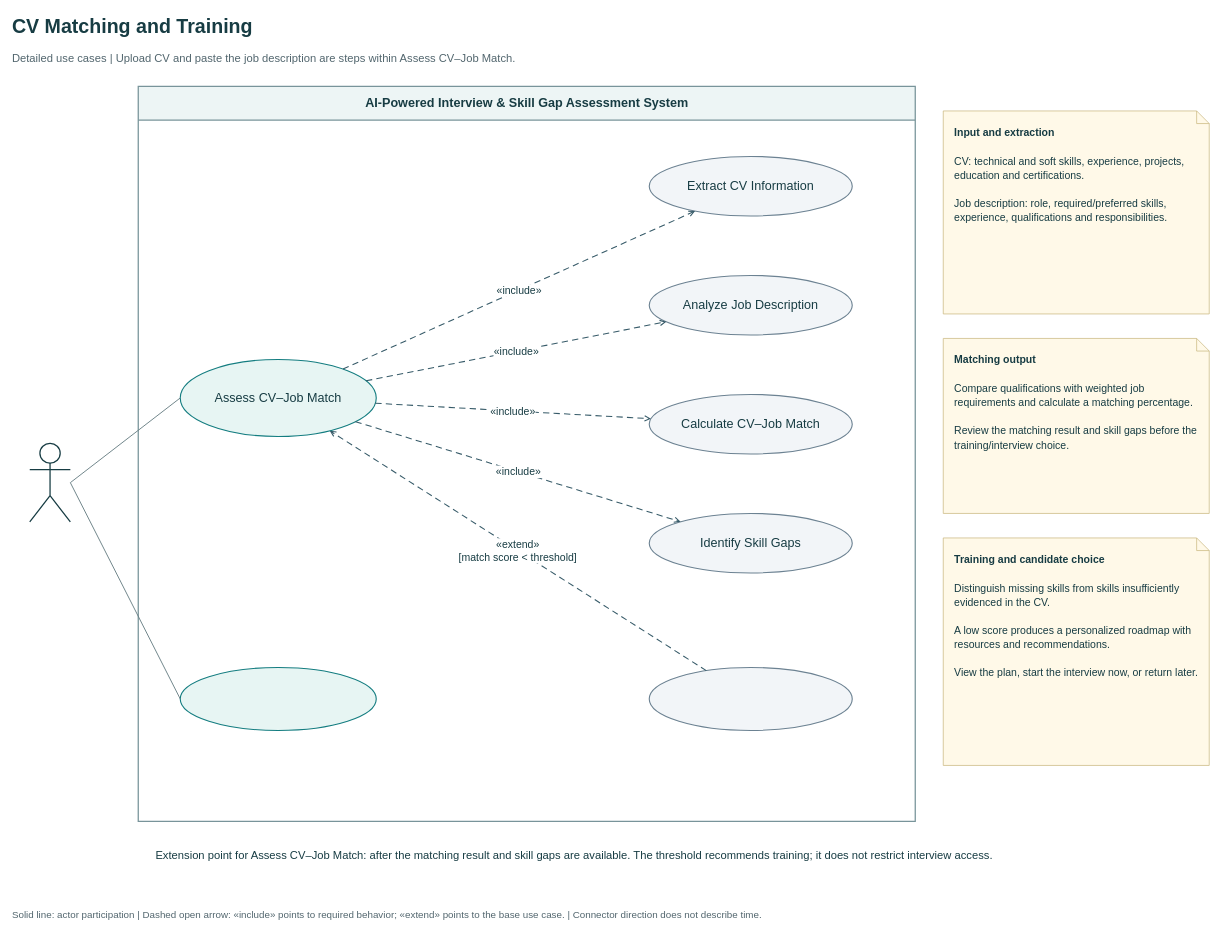
This 1228x946 diagram has some shape labels left out. Here are the shapes that lost their labels. From the top down, the box of each, then its label:
(29, 442, 71, 522): Candidate
(179, 667, 376, 731): View Training Plan
(648, 667, 852, 731): Generate Training Plan
